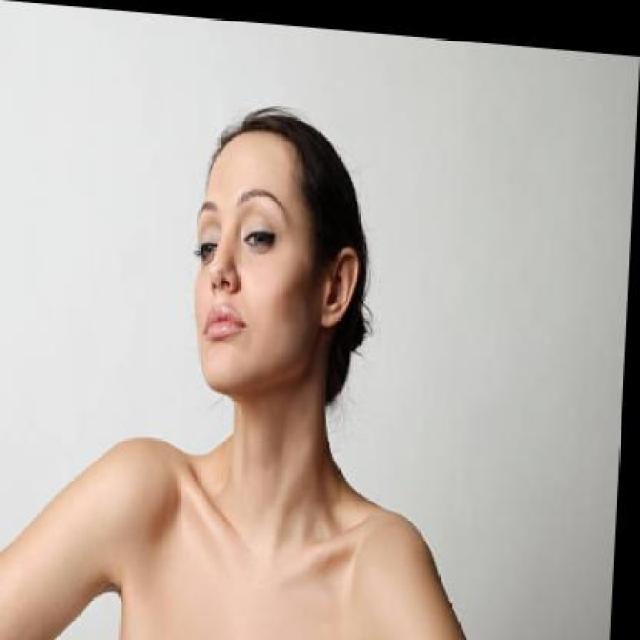Healthy: (196, 377, 384, 565)
